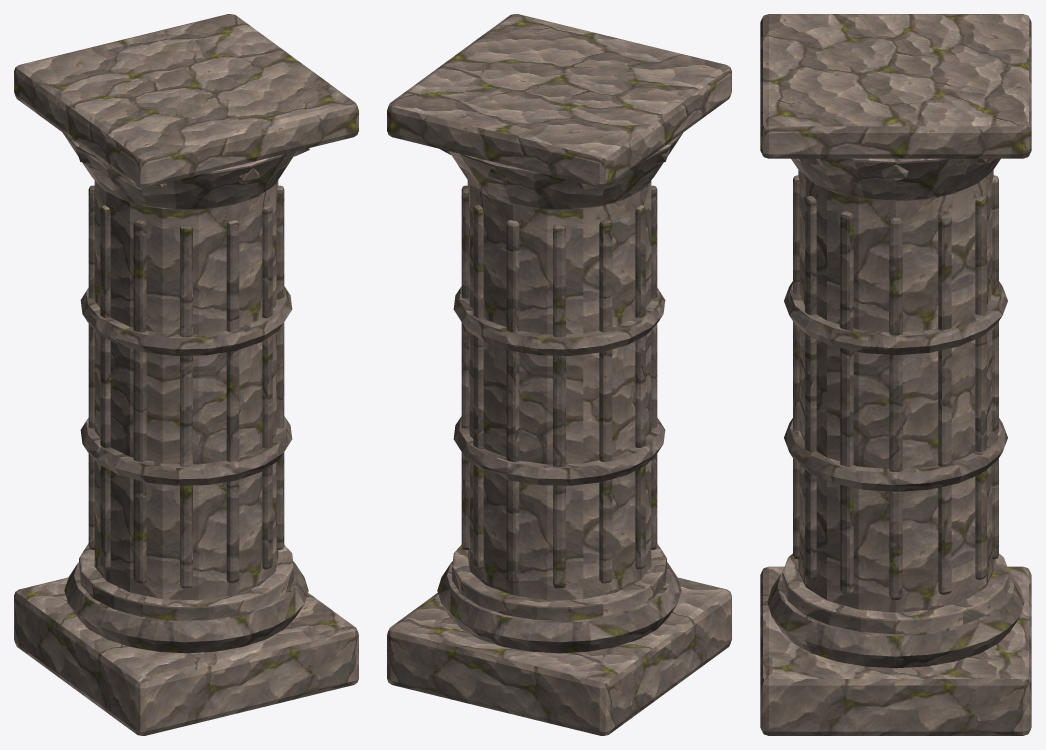
Rendered from column__cut_stone.glb.
3 renders of one model, left to right at view 1: azimuth 30°, elevation 25°; view 2: azimuth 150°, elevation 25°; view 3: azimuth 270°, elevation 25°, orthographic. The views are drawn at different scales.
Visible parts, largest first — view 1: model; view 2: model; view 3: model.
Part boxes in pixels (x1,y1,x2,y2): model: (14,14,358,735); model: (387,14,731,735); model: (760,14,1031,735).
Bounding box in the file's own units: 0.8 × 2 × 0.8.
2 materials, 2 textured.
